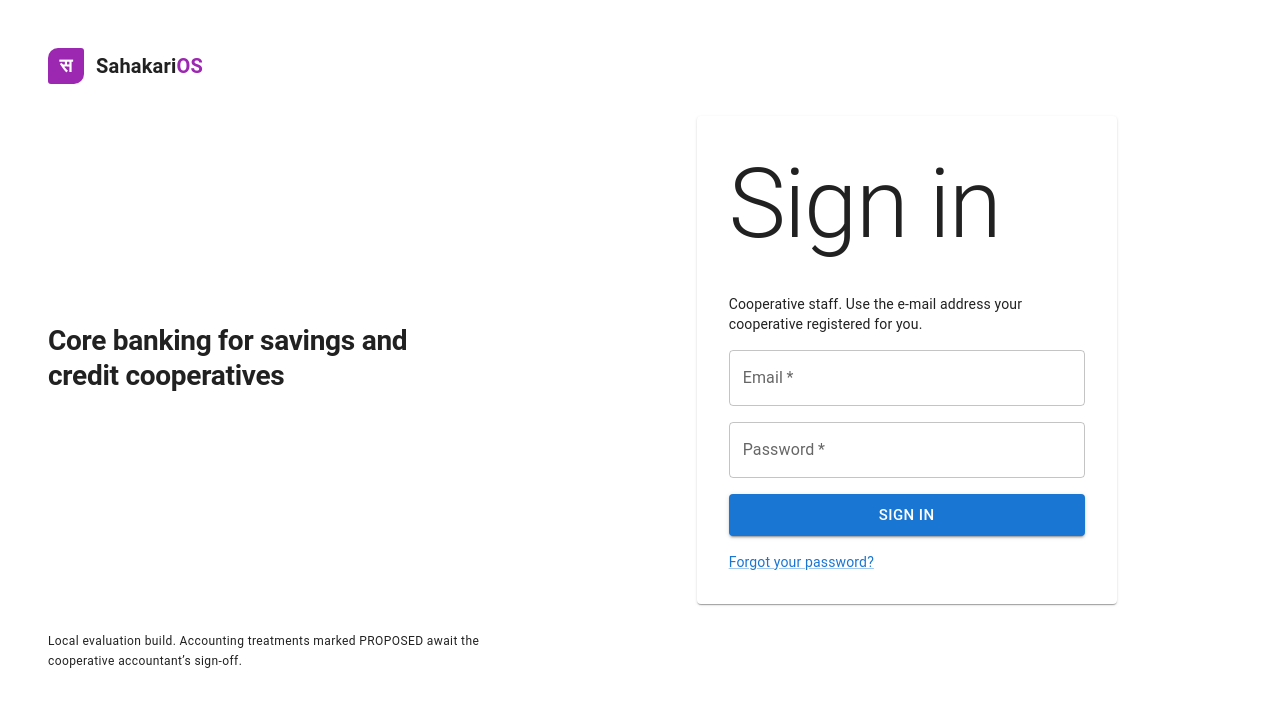
Test: LoginPage › shows the server message on bad credentials and stays on the page
The image size is (1280, 720).
Type "staff@example.test" into the field labelled "Email *" at (907, 378), box [729,350,1085,406]
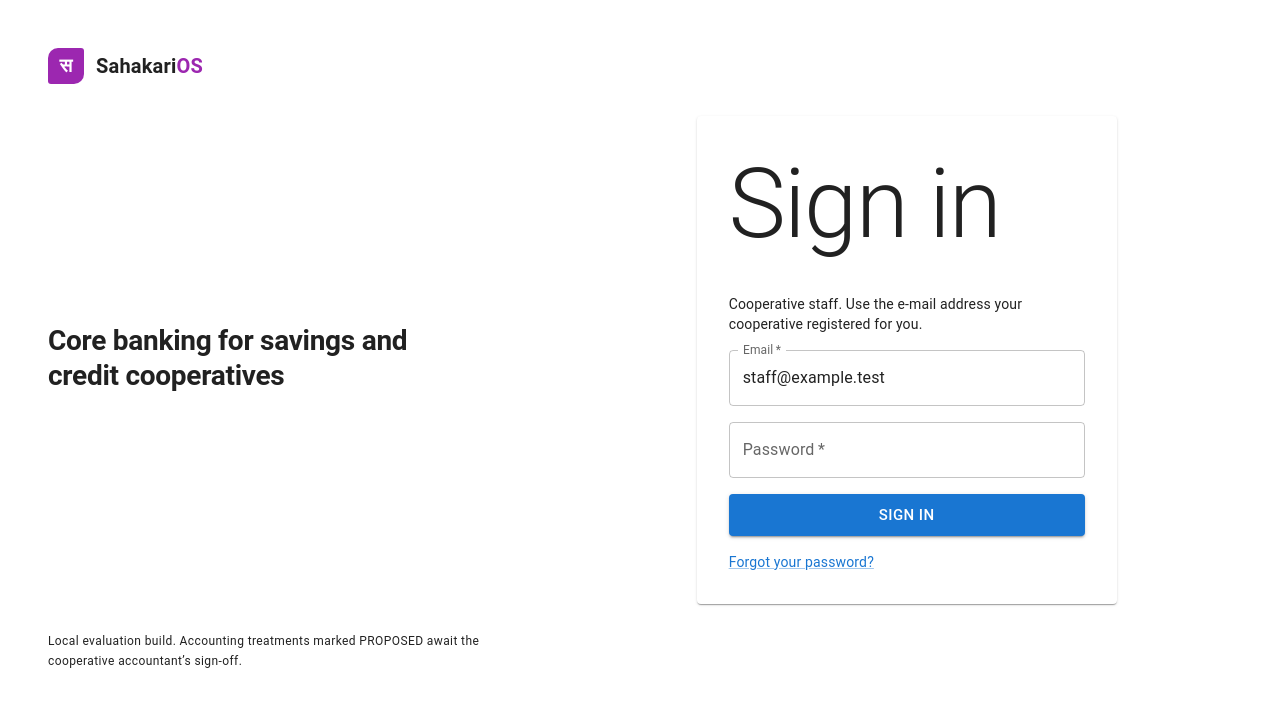
Type "secret-password" into the password field labelled "Password *" at (907, 450), box [729,422,1085,478]
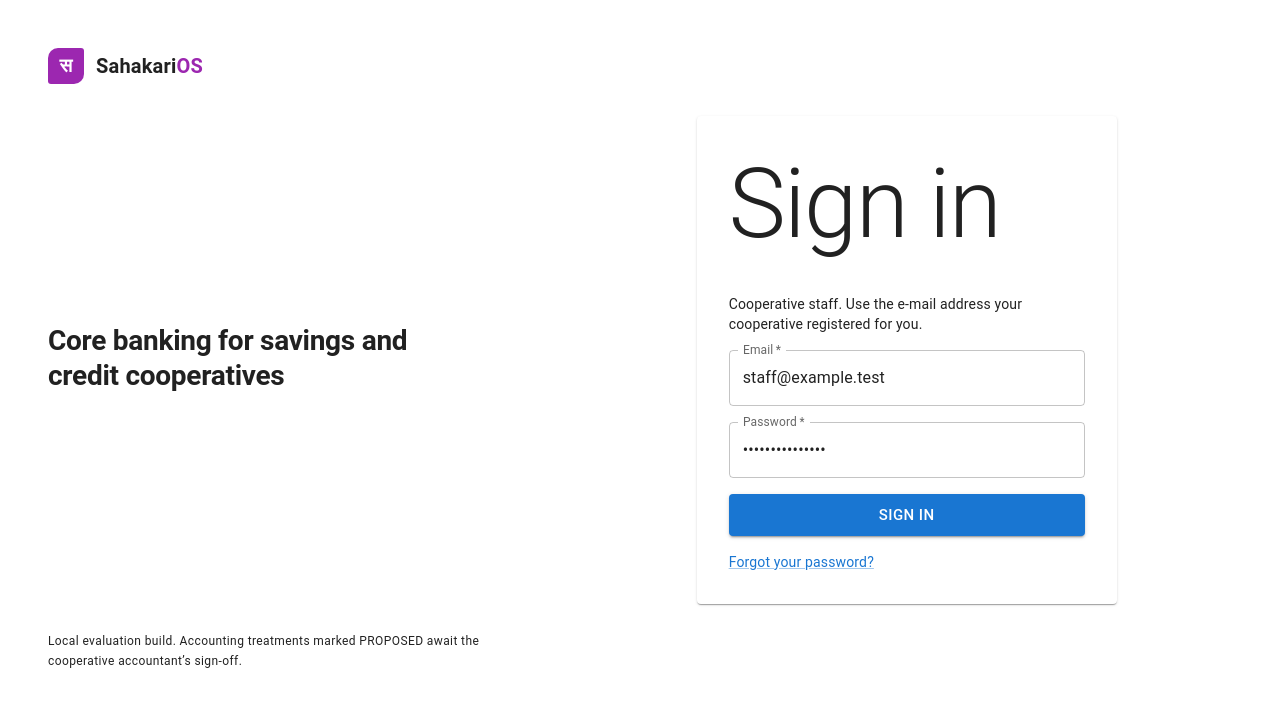
Click the button "Sign in" at (907, 515), box [729,494,1085,536]
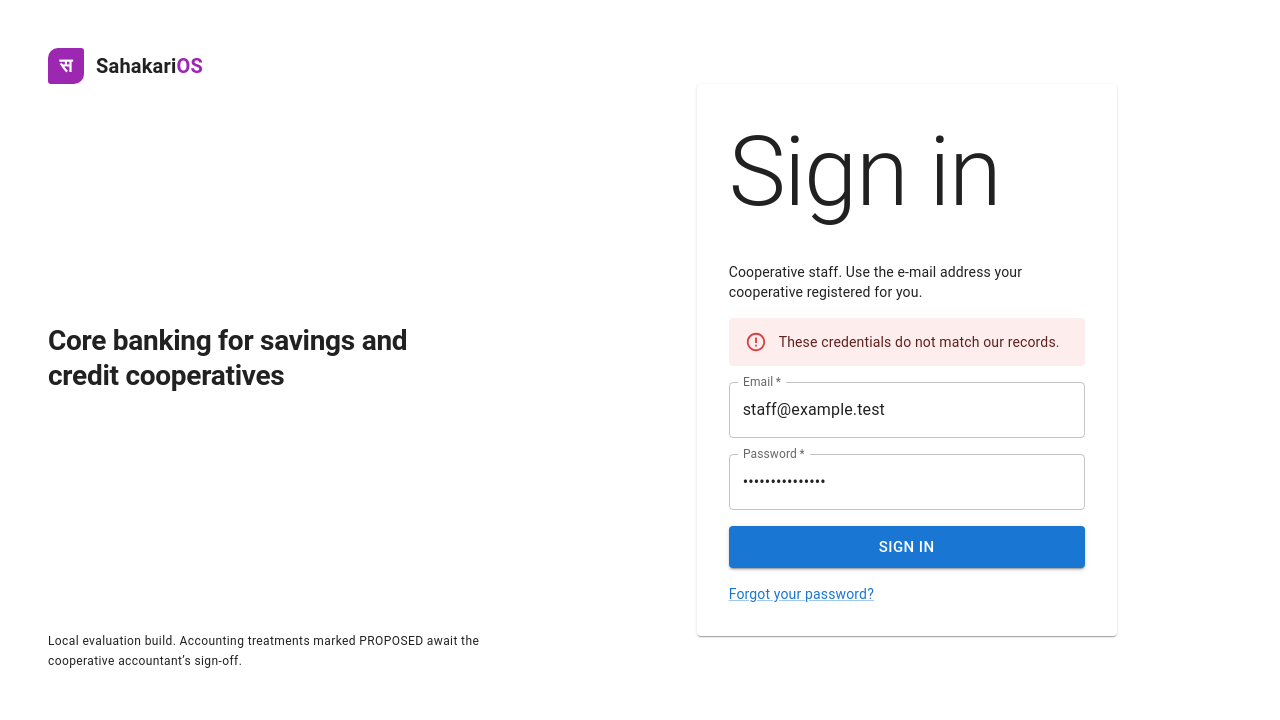
Result: the text "These credentials do not match our records." is shown at [779,334,1060,350]
